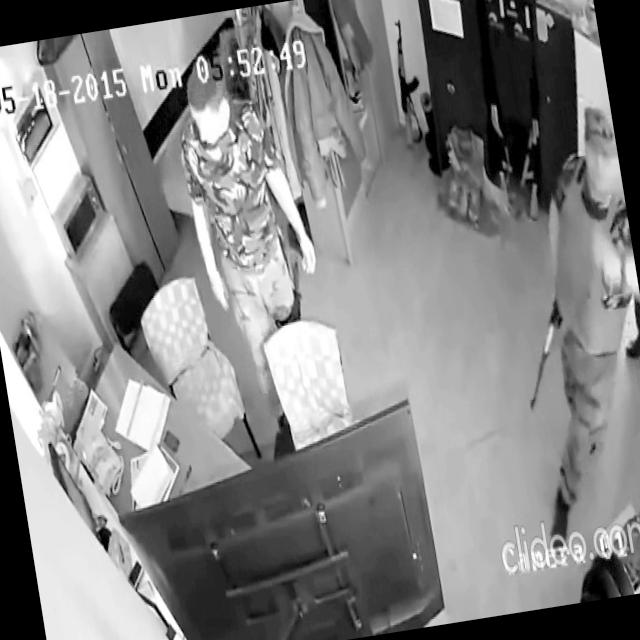gun: (502, 66, 563, 224), (475, 51, 532, 218), (511, 292, 578, 420), (386, 14, 431, 150)
person: (166, 48, 348, 461)
person with a gun: (483, 101, 640, 553)
